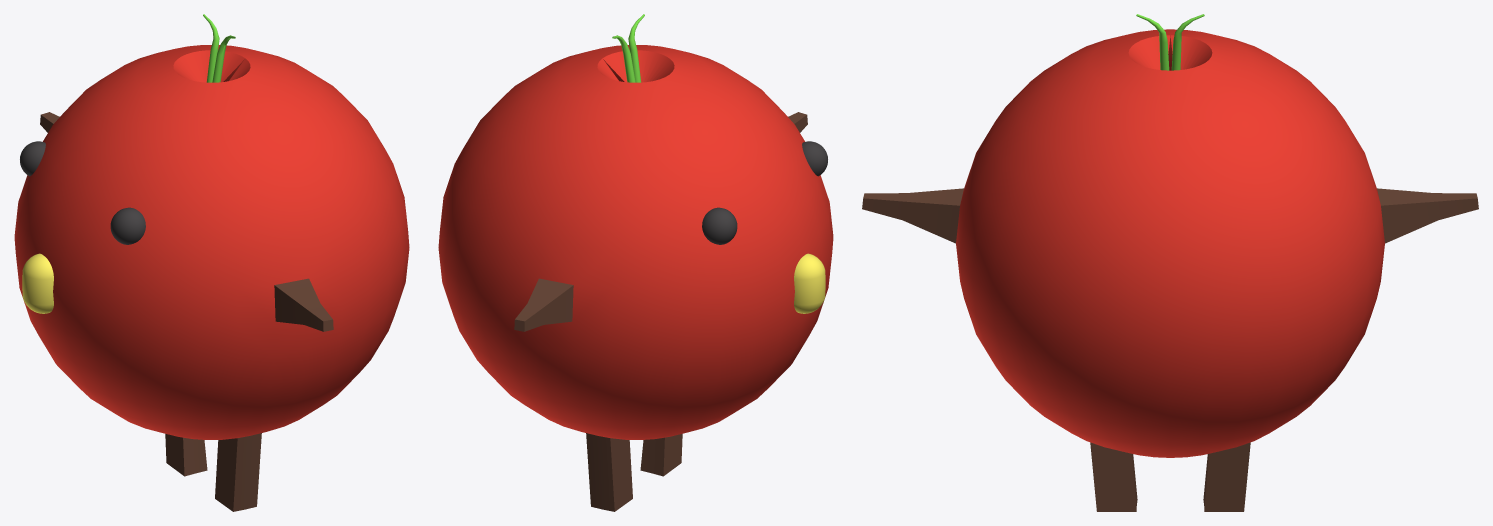
The model's file is _Apple.fbx.
The picture shows the model from 3 angles, left to right: view 1: azimuth 30°, elevation 25°; view 2: azimuth 150°, elevation 25°; view 3: azimuth 270°, elevation 25°; orthographic projection. The views are drawn at different scales.
Parts seen in each view (by area): view 1: Sphere; view 2: Sphere; view 3: Sphere.
Part boxes in pixels (x1=…): Sphere: x1=14, y1=14, x2=409, y2=511; Sphere: x1=438, y1=14, x2=833, y2=511; Sphere: x1=862, y1=14, x2=1478, y2=511.
Bounding box in the file's own units: 209 × 255 × 288.
